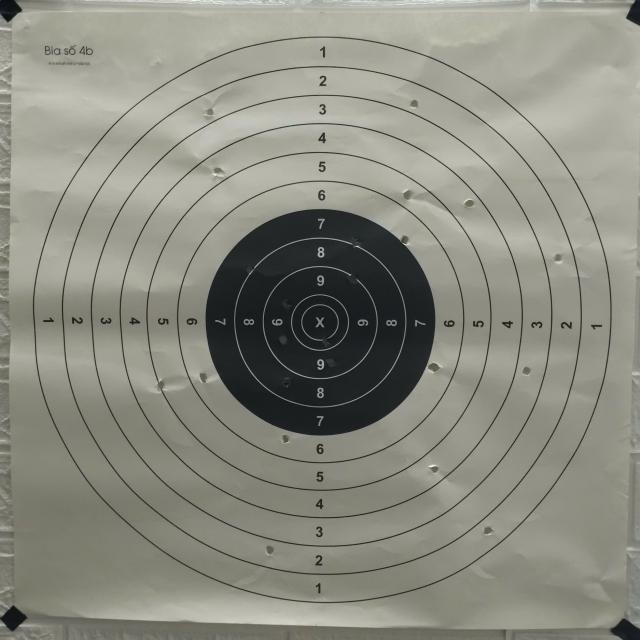bullet: (280, 376, 292, 388), (264, 544, 276, 556), (428, 464, 440, 475), (320, 336, 331, 348), (212, 168, 224, 179), (428, 364, 440, 372), (464, 200, 476, 208), (552, 256, 564, 264), (200, 372, 208, 384), (156, 380, 164, 392), (408, 100, 420, 108), (204, 108, 215, 116), (524, 368, 532, 376), (484, 528, 492, 536), (404, 192, 412, 200), (328, 360, 336, 368), (280, 336, 288, 344), (280, 436, 288, 444), (400, 236, 408, 244), (348, 276, 356, 284), (352, 240, 360, 247), (284, 300, 292, 307), (248, 264, 252, 272)
target: (9, 12, 624, 631)
